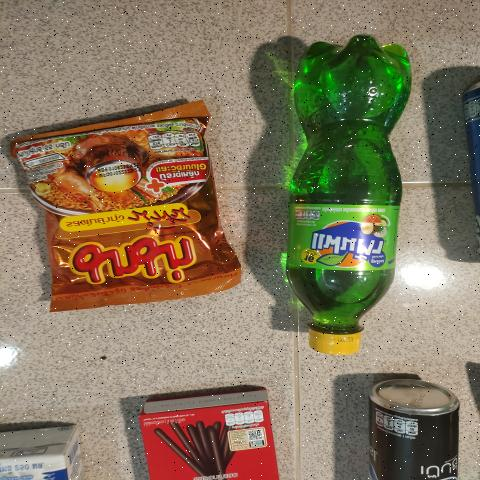fanta_green: (272, 27, 428, 361)
mama: (38, 114, 216, 308)
